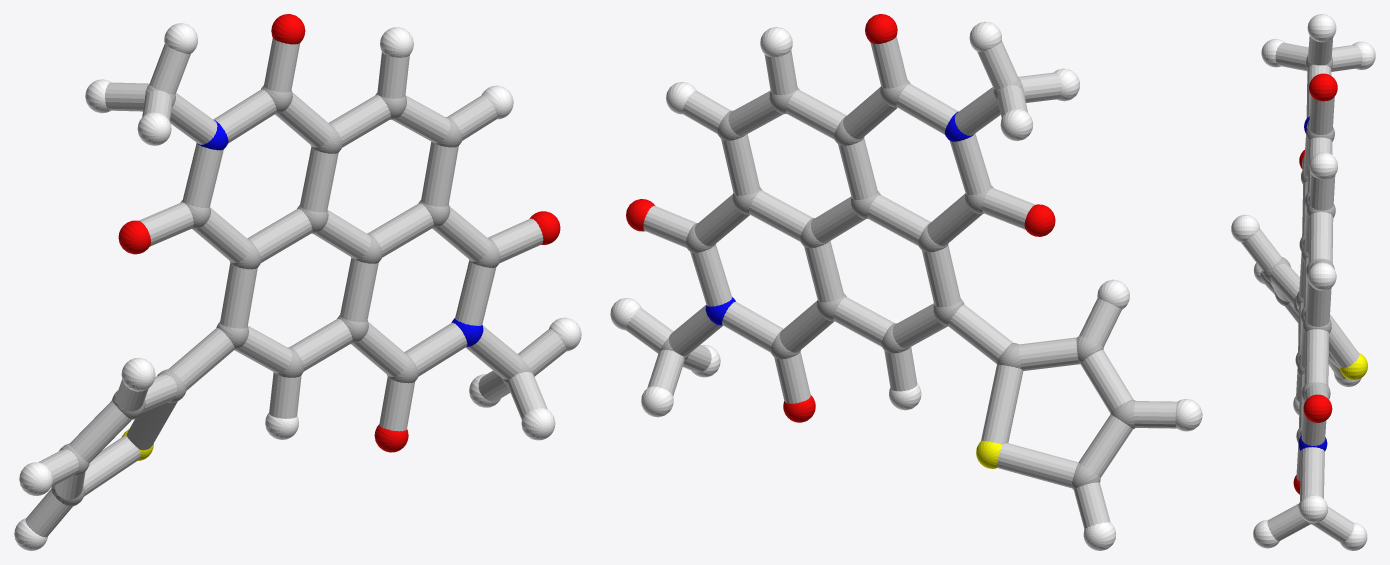
Rendered from Dimethyl_Naphthalene_Dicarboximide_Phi_0_Theta_320_Thiophene.glb.
The picture shows the model from 3 angles, left to right: view 1: azimuth 30°, elevation 25°; view 2: azimuth 150°, elevation 25°; view 3: azimuth 270°, elevation 25°; orthographic projection. The views are drawn at different scales.
Visible parts, largest first — view 1: grp14119, grp7241, grp1, grp12309, grp11585; view 2: grp14119, grp7241, grp1, grp12309, grp11585; view 3: grp14119, grp7241, grp1, grp12309, grp13757, grp11585.
Boxes of the visible parts, <box> form: grp14119: <box>25,38,566,537</box>; grp7241: <box>14,23,581,550</box>; grp1: <box>51,84,532,506</box>; grp12309: <box>118,14,560,452</box>; grp11585: <box>197,120,483,346</box>; grp14119: <box>625,36,1176,528</box>; grp7241: <box>610,21,1202,550</box>; grp1: <box>660,78,1135,489</box>; grp12309: <box>626,14,1055,422</box>; grp11585: <box>705,111,973,325</box>; grp14119: <box>1241,36,1362,542</box>; grp7241: <box>1231,14,1375,550</box>; grp1: <box>1262,55,1335,524</box>; grp12309: <box>1293,73,1337,494</box>; grp13757: <box>1339,353,1367,380</box>; grp11585: <box>1298,116,1327,451</box>.
Size of the model in its own units: 11.92 by 9.81 by 3.02.
